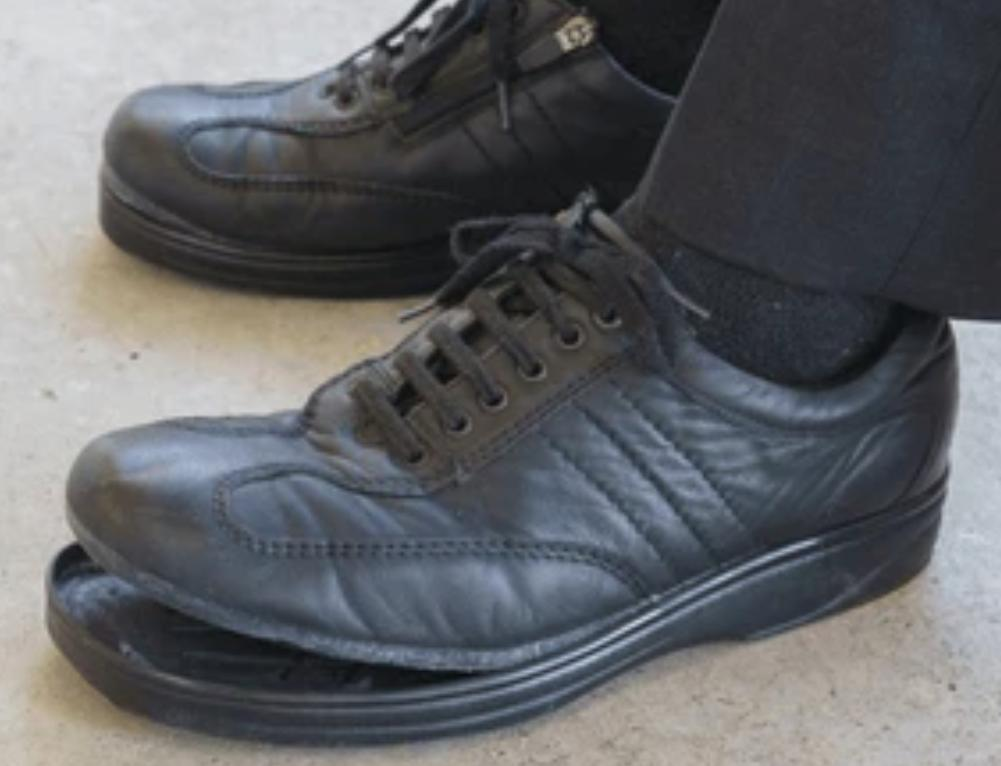bonding: (33, 513, 519, 716)
